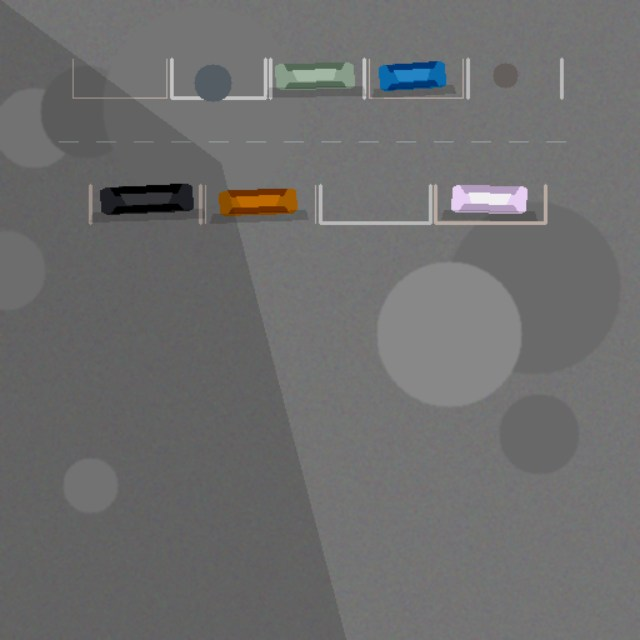space-empty: (320, 185, 430, 222), (72, 59, 166, 97), (171, 59, 265, 97), (468, 59, 561, 97)
space-occupied: (90, 185, 200, 222), (205, 185, 315, 222), (435, 185, 545, 222), (270, 59, 364, 97), (369, 59, 462, 97)
